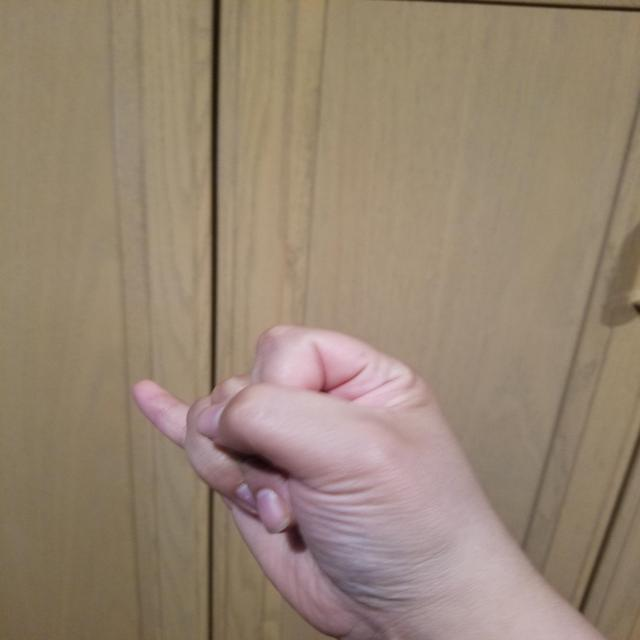J: (126, 314, 488, 640)
